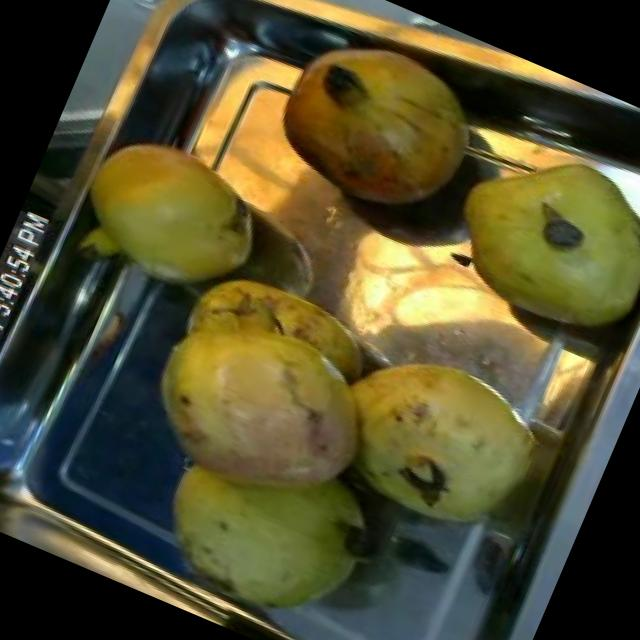fruit: (104, 232, 427, 552), (292, 316, 566, 566), (244, 3, 511, 248), (412, 116, 640, 363), (58, 110, 292, 320)
